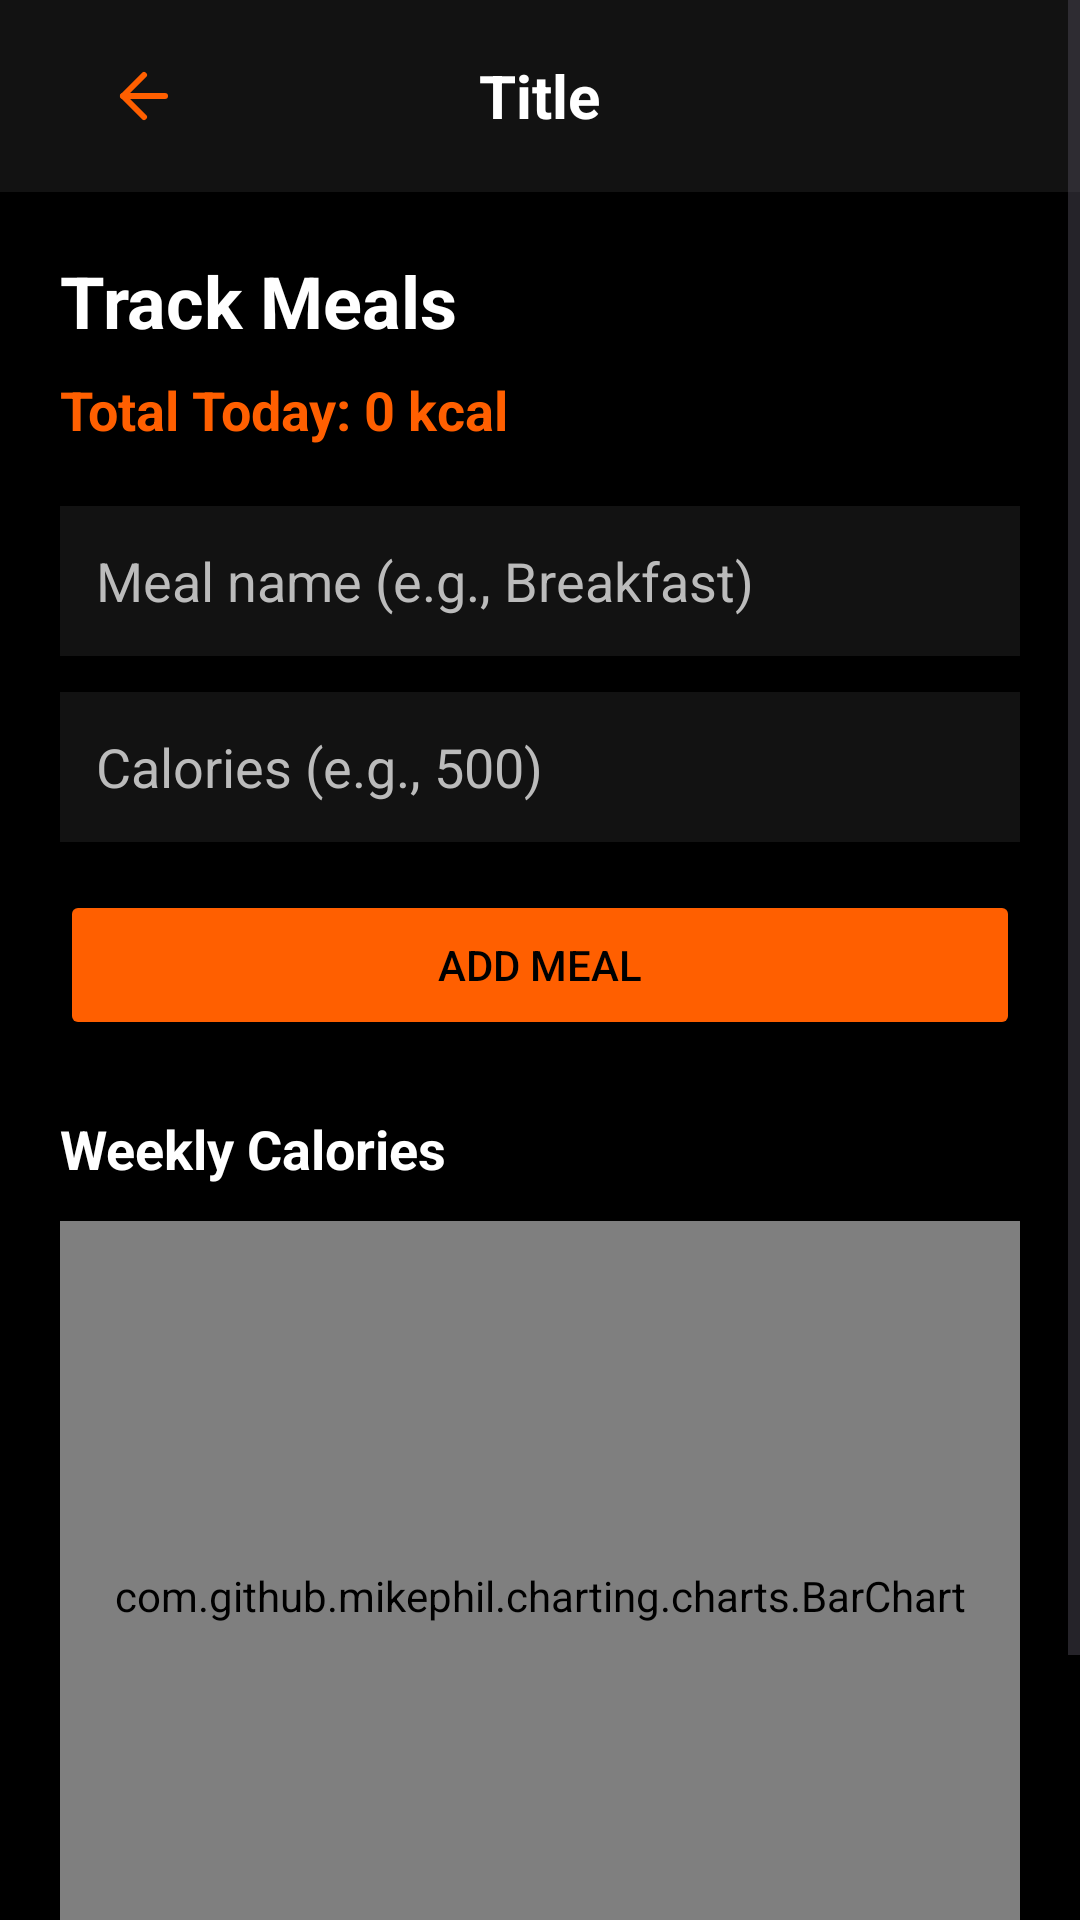

Where to tap for icons on this 1080px×1920px app screen, as point (x, y):
go back: point (144, 96)
